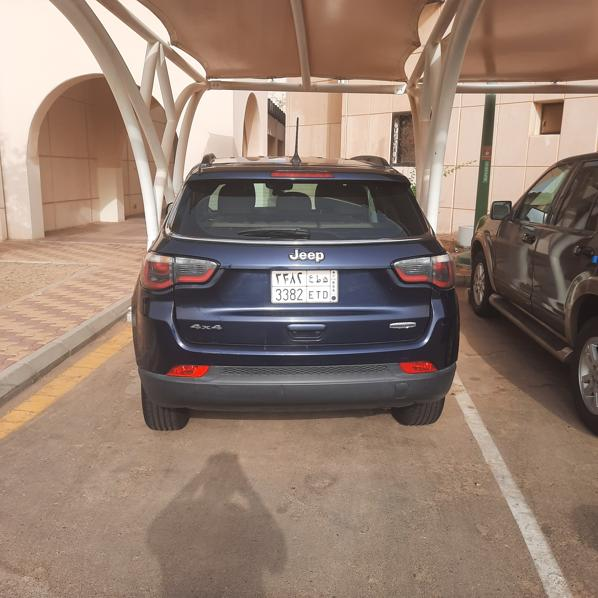numberplate: (271, 270, 338, 302)
